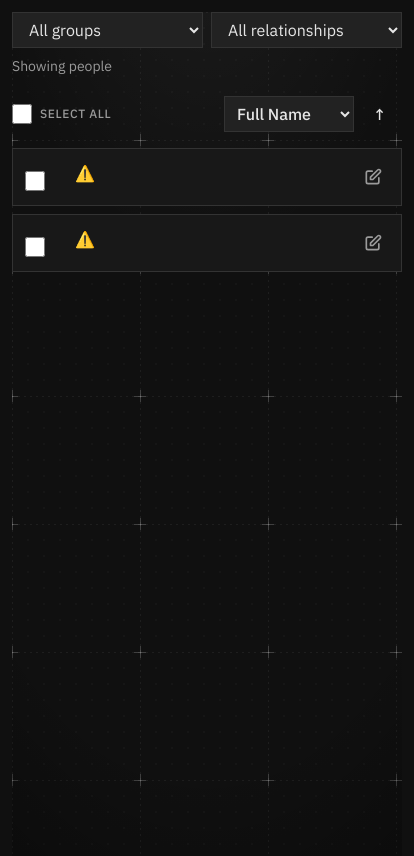
Test: PeopleListClient › Selection / checkboxes › selects all people on page when header checkbox is clicked
Click the checkbox labelled "Select all".
click(22, 114)  # box x1=12 y1=104 x2=32 y2=124
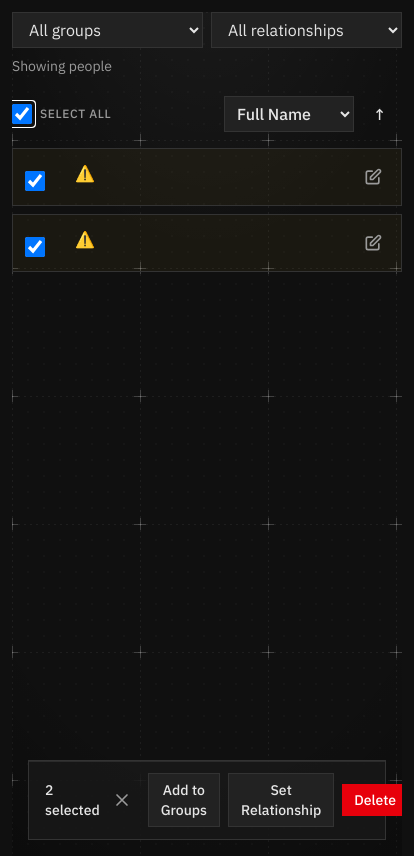
Check: the 2nd checkbox is checked, box x1=25 y1=171 x2=45 y2=191
Check: the 3rd checkbox is checked, box x1=25 y1=237 x2=45 y2=257
